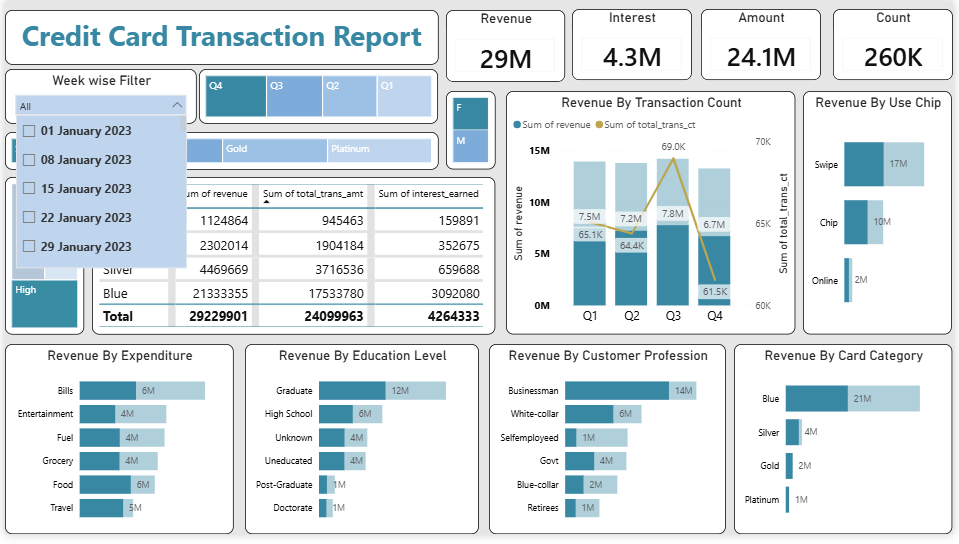

The page's visual inventory and layout, read from the dashboard file:
{"tool":"powerbi","page":{"name":"CC_Transactions","canvas":[1280,720],"ordinal":1},"visuals":[{"type":"textbox","box":[0,11.6,585.5,73.9],"z":0},{"type":"lineStackedColumnComboChart","title":"Revenue By Transaction Count","fields":{"Category":["public cc_details.qtr"],"Y":["Sum(public cc_details.revenue)"],"Y2":["Sum(public cc_details.total_trans_ct)"]},"box":[676.8,121.7,391.3,329],"z":1000},{"type":"barChart","title":"Revenue By Expenditure","fields":{"Y":["Sum(public cc_details.revenue)"],"Category":["public cc_details.exp_type"]},"box":[0,463.8,308.7,256.5],"z":2000},{"type":"barChart","title":"Revenue By Education Level","fields":{"Y":["Sum(public cc_details.revenue)"],"Category":["public cc_customers.education_level"]},"box":[324.6,463.8,315.9,256.5],"z":3000},{"type":"barChart","title":"Revenue By Customer Profession","fields":{"Y":["Sum(public cc_details.revenue)"],"Category":["public cc_customers.customer_job"]},"box":[653.6,463.8,320.3,256.5],"z":4000},{"type":"barChart","title":"Revenue By Card Category","fields":{"Y":["Sum(public cc_details.revenue)"],"Category":["public cc_details.card_category"]},"box":[985,463.5,294.8,256.5],"z":5000},{"type":"barChart","title":"Revenue By Use Chip","fields":{"Y":["Sum(public cc_details.revenue)"],"Category":["public cc_details.use_chip"]},"box":[1078.3,121.7,201.4,329],"z":6000},{"type":"tableEx","fields":{"Values":["public cc_details.card_category","Sum(public cc_details.revenue)","Sum(public cc_details.total_trans_amt)","Sum(public cc_details.interest_earned)"]},"box":[117.4,237.7,544.9,213],"z":7000},{"type":"cardVisual","title":"Revenue","fields":{"Data":["Sum(public cc_details.revenue)"]},"box":[595.7,11.6,160.9,97.1],"z":8000},{"type":"cardVisual","title":"Interest","fields":{"Data":["Sum(public cc_details.interest_earned)"]},"box":[766.8,11.3,161.6,96.4],"z":9000},{"type":"cardVisual","title":"Amount ","fields":{"Data":["Sum(public cc_details.total_trans_amt)"]},"box":[941.1,11.3,161.6,96.4],"z":10000},{"type":"cardVisual","title":"Count","fields":{"Data":["Sum(public cc_details.total_trans_ct)"]},"box":[1118.3,11.3,161.6,96.4],"z":11000},{"type":"slicer","title":"Week wise Filter","fields":{"Values":["public cc_details.week_start_date"]},"box":[0,91.3,259.4,73.9],"z":12000},{"type":"treemap","fields":{"Group":["public cc_details.qtr"],"Values":["Avg(public cc_details.client_num)"]},"box":[262.3,91.3,323.2,73.9],"z":13000},{"type":"treemap","fields":{"Values":["Avg(public cc_details.client_num)"],"Group":["public cc_customers.gender"]},"box":[595.7,121.7,66.7,105.8],"z":14000},{"type":"treemap","fields":{"Values":["Avg(public cc_details.client_num)"],"Group":["public cc_details.card_category"]},"box":[0,176.8,585.5,50.7],"z":15000},{"type":"treemap","fields":{"Values":["Avg(public cc_details.client_num)"],"Group":["public cc_customers.income_group"]},"box":[0,237.7,107.2,213],"z":16000}]}

Visuals, with their boxes in screenshot pixels (x1, y1, x2, y2), scaled from the page's 1280x720 canvas onto the 959x544 screenshot:
textbox: [0, 9, 439, 65]
"Revenue By Transaction Count" lineStackedColumnComboChart: [507, 92, 800, 341]
"Revenue By Expenditure" barChart: [0, 350, 231, 543]
"Revenue By Education Level" barChart: [243, 350, 480, 543]
"Revenue By Customer Profession" barChart: [490, 350, 730, 543]
"Revenue By Card Category" barChart: [738, 350, 958, 543]
"Revenue By Use Chip" barChart: [808, 92, 958, 341]
tableEx - public cc_details.card_category x Sum(public cc_details.revenue): [88, 180, 496, 341]
"Revenue" cardVisual: [446, 9, 567, 82]
"Interest" cardVisual: [575, 9, 696, 81]
"Amount " cardVisual: [705, 9, 826, 81]
"Count" cardVisual: [838, 9, 958, 81]
"Week wise Filter" slicer: [0, 69, 194, 125]
treemap - public cc_details.qtr x Avg(public cc_details.client_num): [197, 69, 439, 125]
treemap - Avg(public cc_details.client_num) x public cc_customers.gender: [446, 92, 496, 172]
treemap - Avg(public cc_details.client_num) x public cc_details.card_category: [0, 134, 439, 172]
treemap - Avg(public cc_details.client_num) x public cc_customers.income_group: [0, 180, 80, 341]
